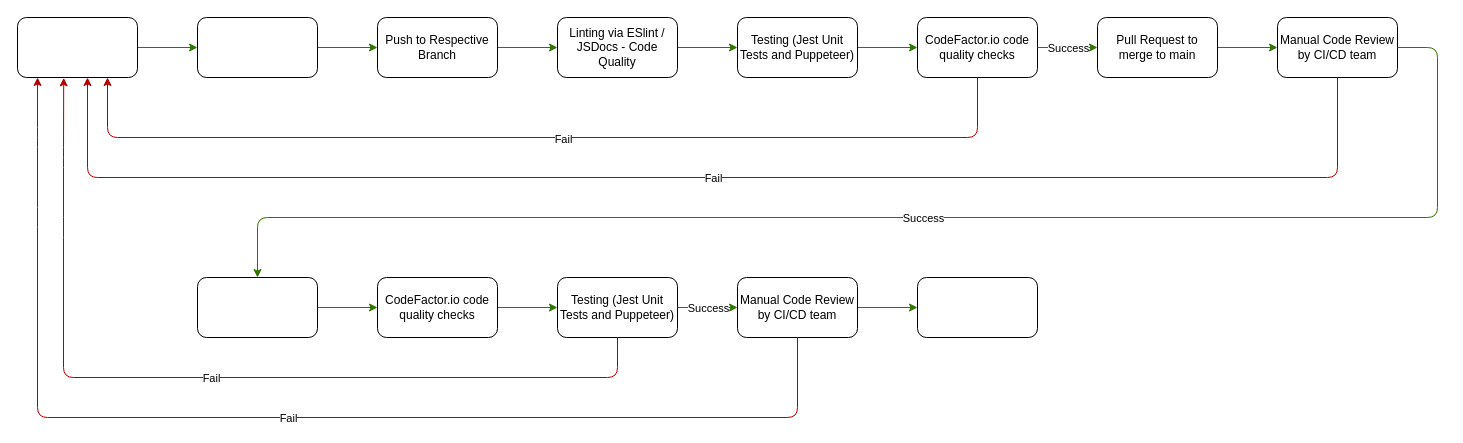
Some shapes in this 1463 by 443 pixel diagram are drawn without their labels. The centre of each missing label's shape, as x and y in pixels:
"Code Locally" belongs at (x=77, y=47).
"Commit on respective branch (front-end, back-end, repo-build)" belongs at (x=257, y=47).
"Deploy to Production" belongs at (x=977, y=307).
"Merge to main" belongs at (x=257, y=307).
